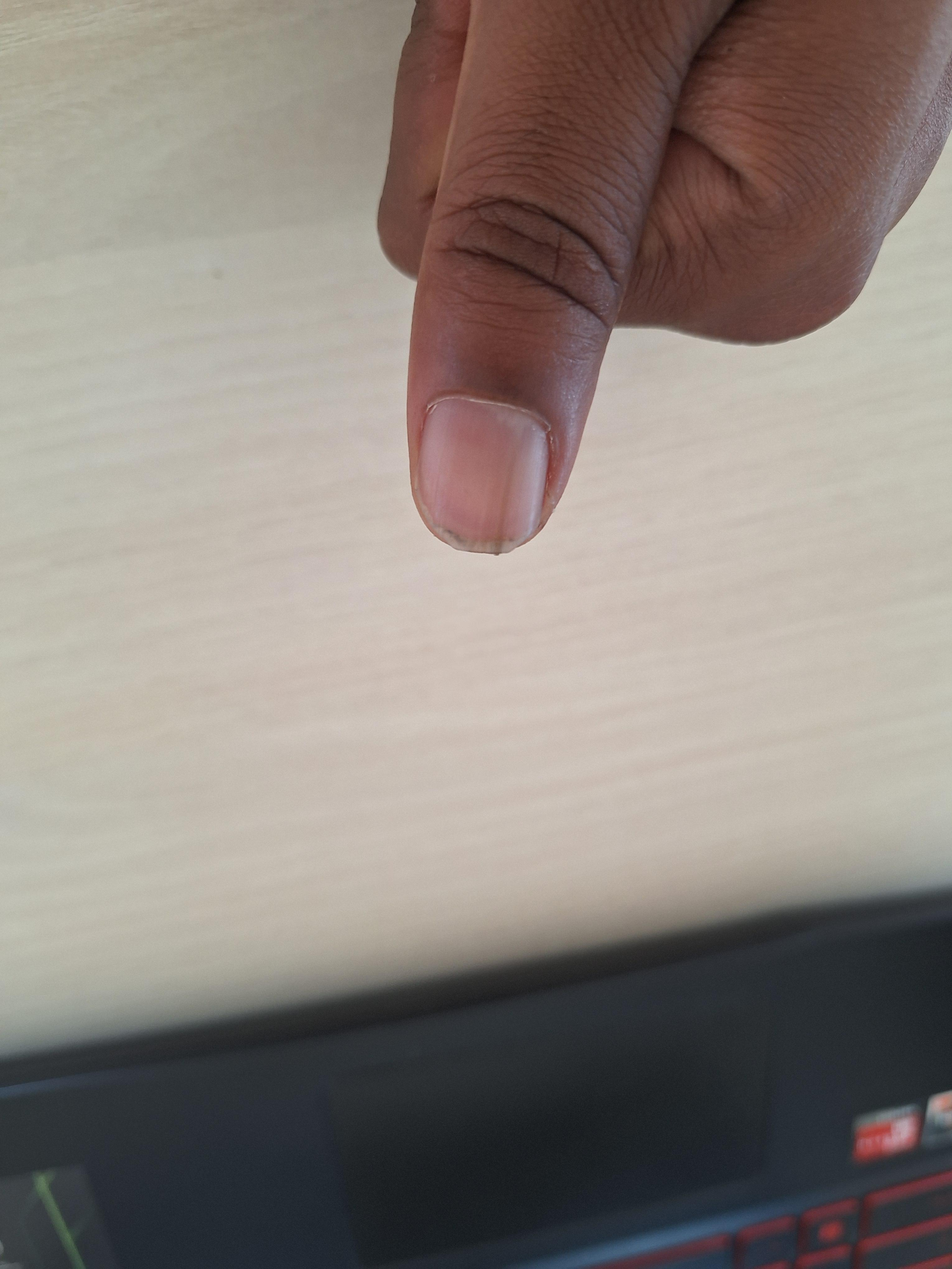Fingernail: (415, 398, 550, 555)
